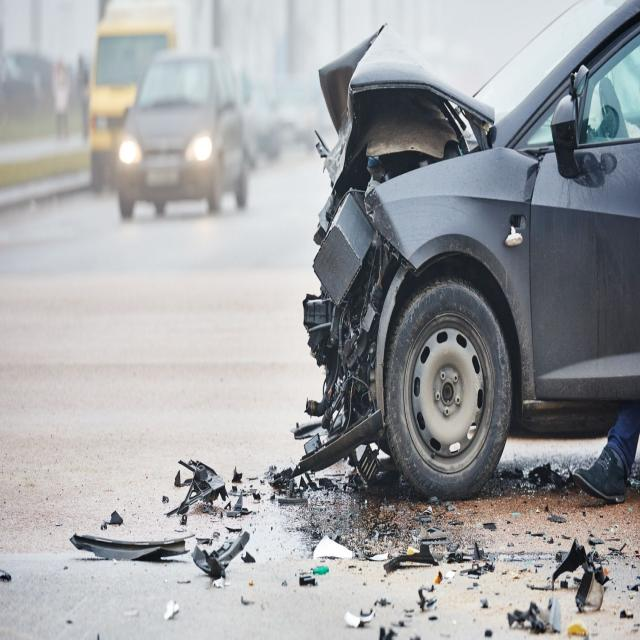crush: (290, 22, 547, 478)
